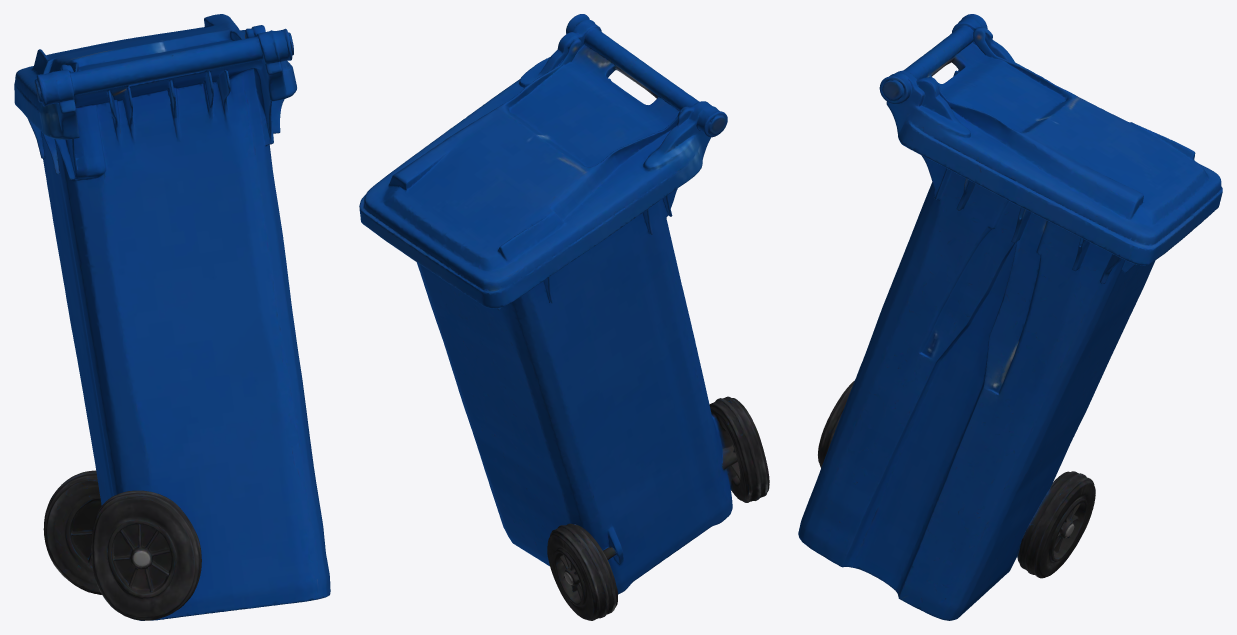
Rendered from pixal3d.glb.
3 views of the same model, side by side, from view 1: azimuth 30°, elevation 25°; view 2: azimuth 150°, elevation 25°; view 3: azimuth 270°, elevation 25° (orthographic). The views are drawn at different scales.
Parts seen in each view (by area): view 1: world; view 2: world; view 3: world.
Part boxes in pixels (x1,y1,x2,y2): world: (14,14,330,620); world: (359,14,769,620); world: (798,14,1222,620).
Size of the model in its own units: 0.5119 by 0.9206 by 0.658.
Materials: 1 (1 with a texture image).
